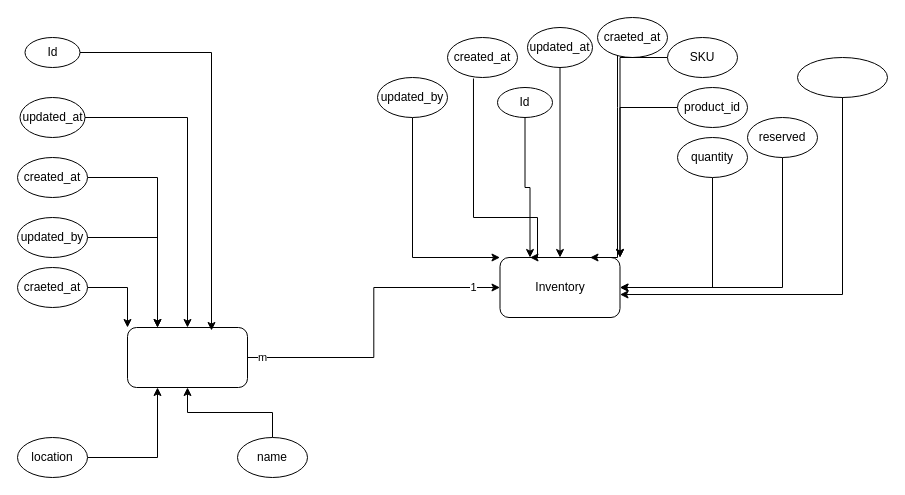
The diagram is 905 pixels wide and 495 high, and some of its shapes have lost their labels. Here are the shapes that lost their labels. From the top down, the box of each, then its label:
(796, 56, 888, 98): warehouse_id
(126, 326, 248, 388): warehouse
